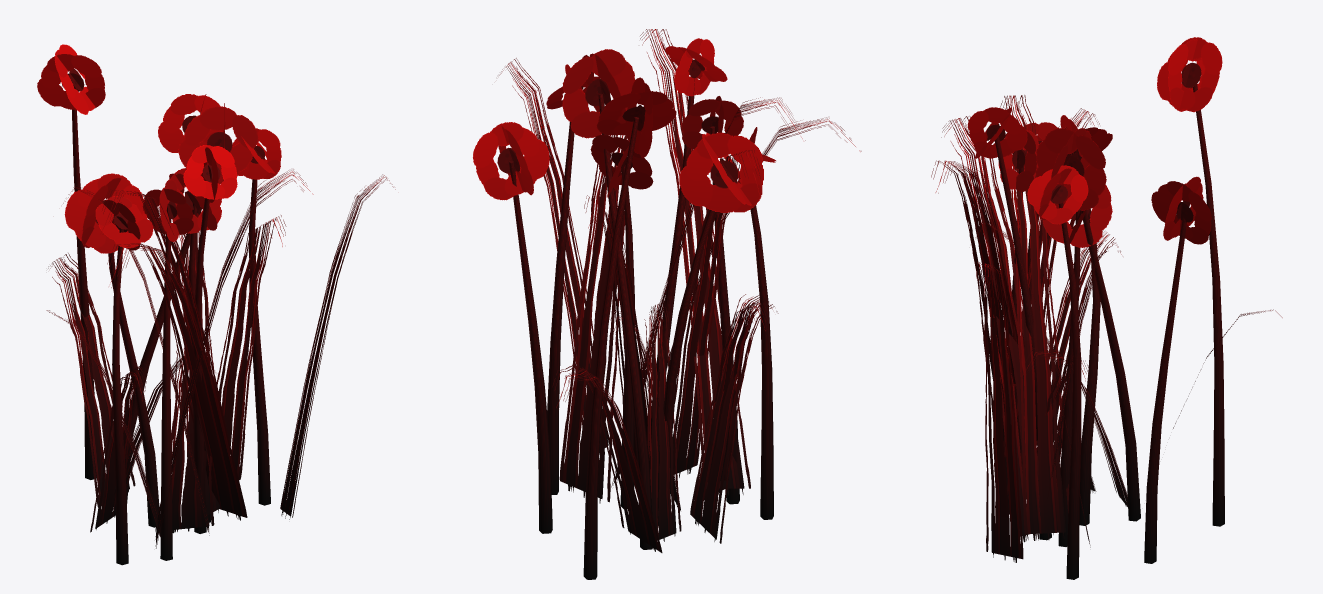
Rendered from plant_grassland_wildflower_a.glb.
The picture shows the model from 3 angles, left to right: view 1: azimuth 30°, elevation 25°; view 2: azimuth 150°, elevation 25°; view 3: azimuth 270°, elevation 25°; orthographic projection. The views are drawn at different scales.
Visible parts, largest first — view 1: plant_grassland_wildflower_a; view 2: plant_grassland_wildflower_a; view 3: plant_grassland_wildflower_a.
Boxes of the visible parts, <box> form: plant_grassland_wildflower_a: <box>37,44,395,565</box>; plant_grassland_wildflower_a: <box>473,29,861,579</box>; plant_grassland_wildflower_a: <box>931,37,1282,579</box>.
Bounding box in the file's own units: 0.3621 × 0.4808 × 0.3474.
Materials: 1 (1 with a texture image).
